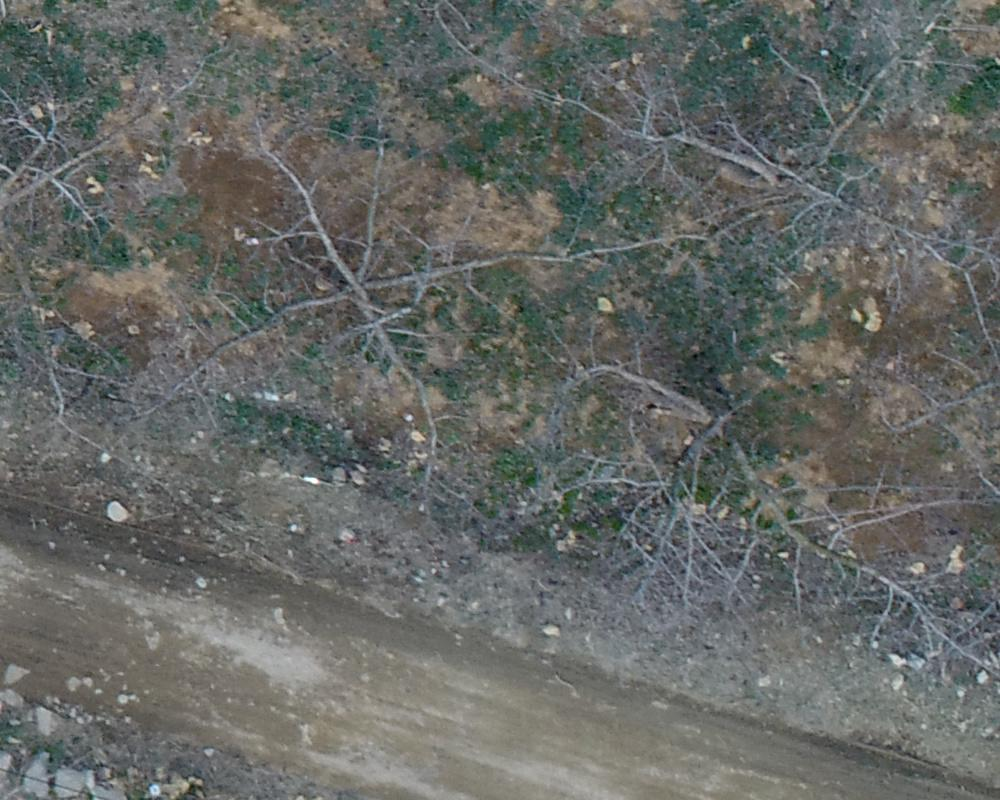apple: (550, 342, 948, 696), (210, 119, 582, 459), (600, 15, 990, 303), (10, 34, 157, 399)
